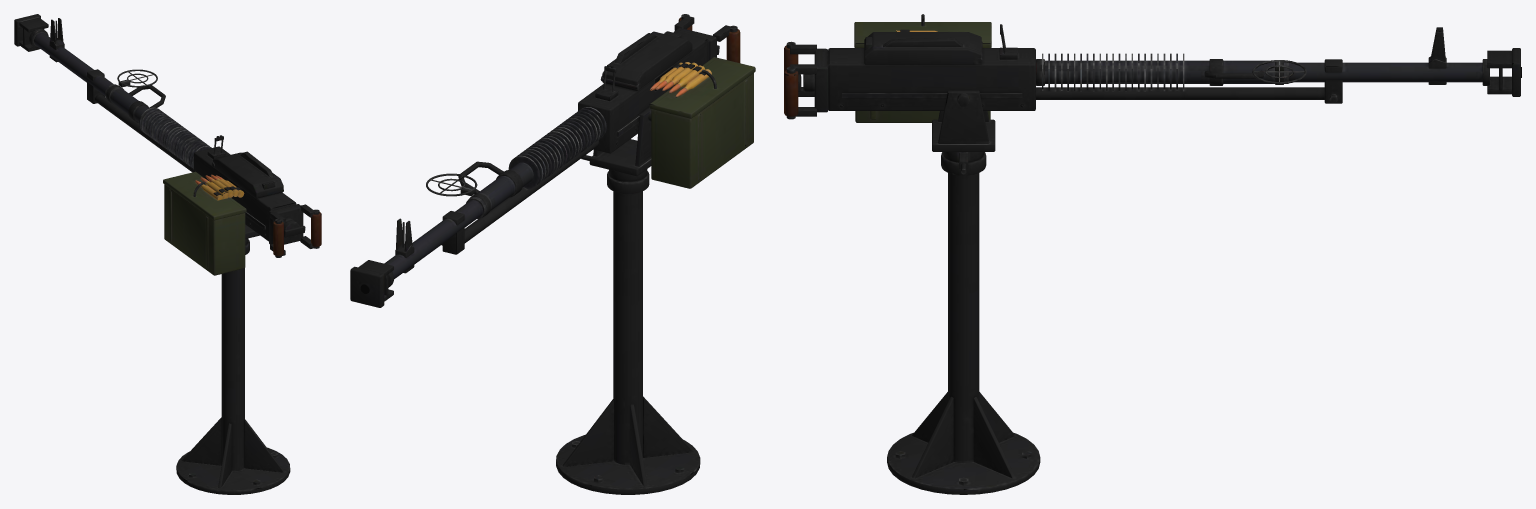
The model's file is dshk.glb.
3 views of the same model, side by side, from view 1: azimuth 30°, elevation 25°; view 2: azimuth 150°, elevation 25°; view 3: azimuth 270°, elevation 25° (orthographic). The views are drawn at different scales.
Parts seen in each view (by area): view 1: dshk_body, mount, box, cover; view 2: dshk_body, mount, box, cover, yoke; view 3: dshk_body, mount, cover, yoke, box.
Boxes of the visible parts, <box> form: dshk_body: <box>14,14,321,257</box>; mount: <box>176,239,290,494</box>; box: <box>163,171,246,275</box>; cover: <box>211,151,283,198</box>; dshk_body: <box>350,14,740,307</box>; mount: <box>556,171,700,494</box>; box: <box>649,57,755,188</box>; cover: <box>600,31,692,90</box>; yoke: <box>581,107,651,181</box>; dshk_body: <box>784,24,1521,119</box>; mount: <box>887,152,1040,494</box>; cover: <box>864,32,982,64</box>; yoke: <box>932,90,995,174</box>; box: <box>854,14,991,122</box>.
Size of the model in its own units: 0.377 by 1.07 by 1.64.
1 material, 1 textured.
